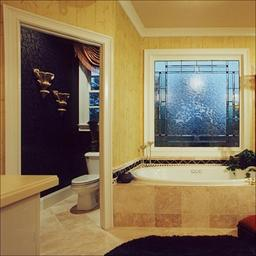Sanitario: (72, 148, 99, 212)
Ventana: (144, 52, 250, 157)
